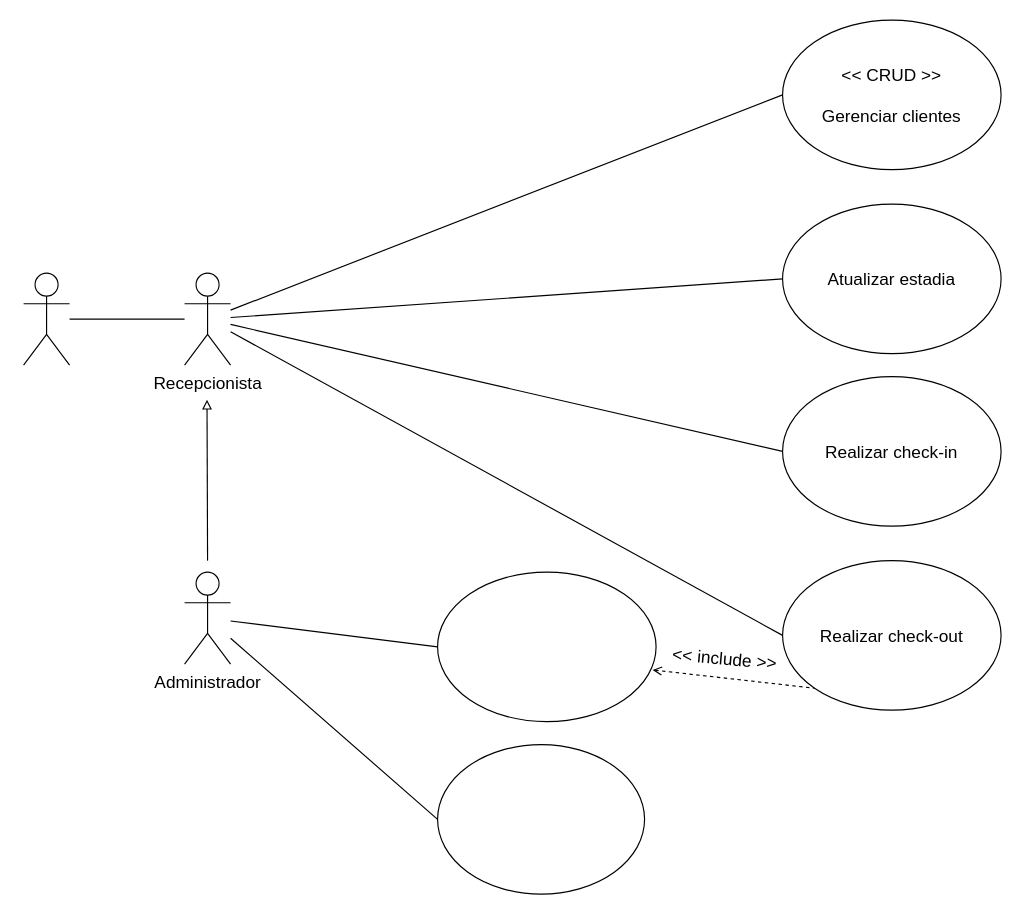
Image size: 1021x914. Some labels were removed from this diagram. Each missing label, with the centre of its shape:
"<< CRUD >> Gerenciar apartamentos" goes at point 540,818.
"Cliente" goes at point 46,318.
"Relatório" goes at point 546,646.
